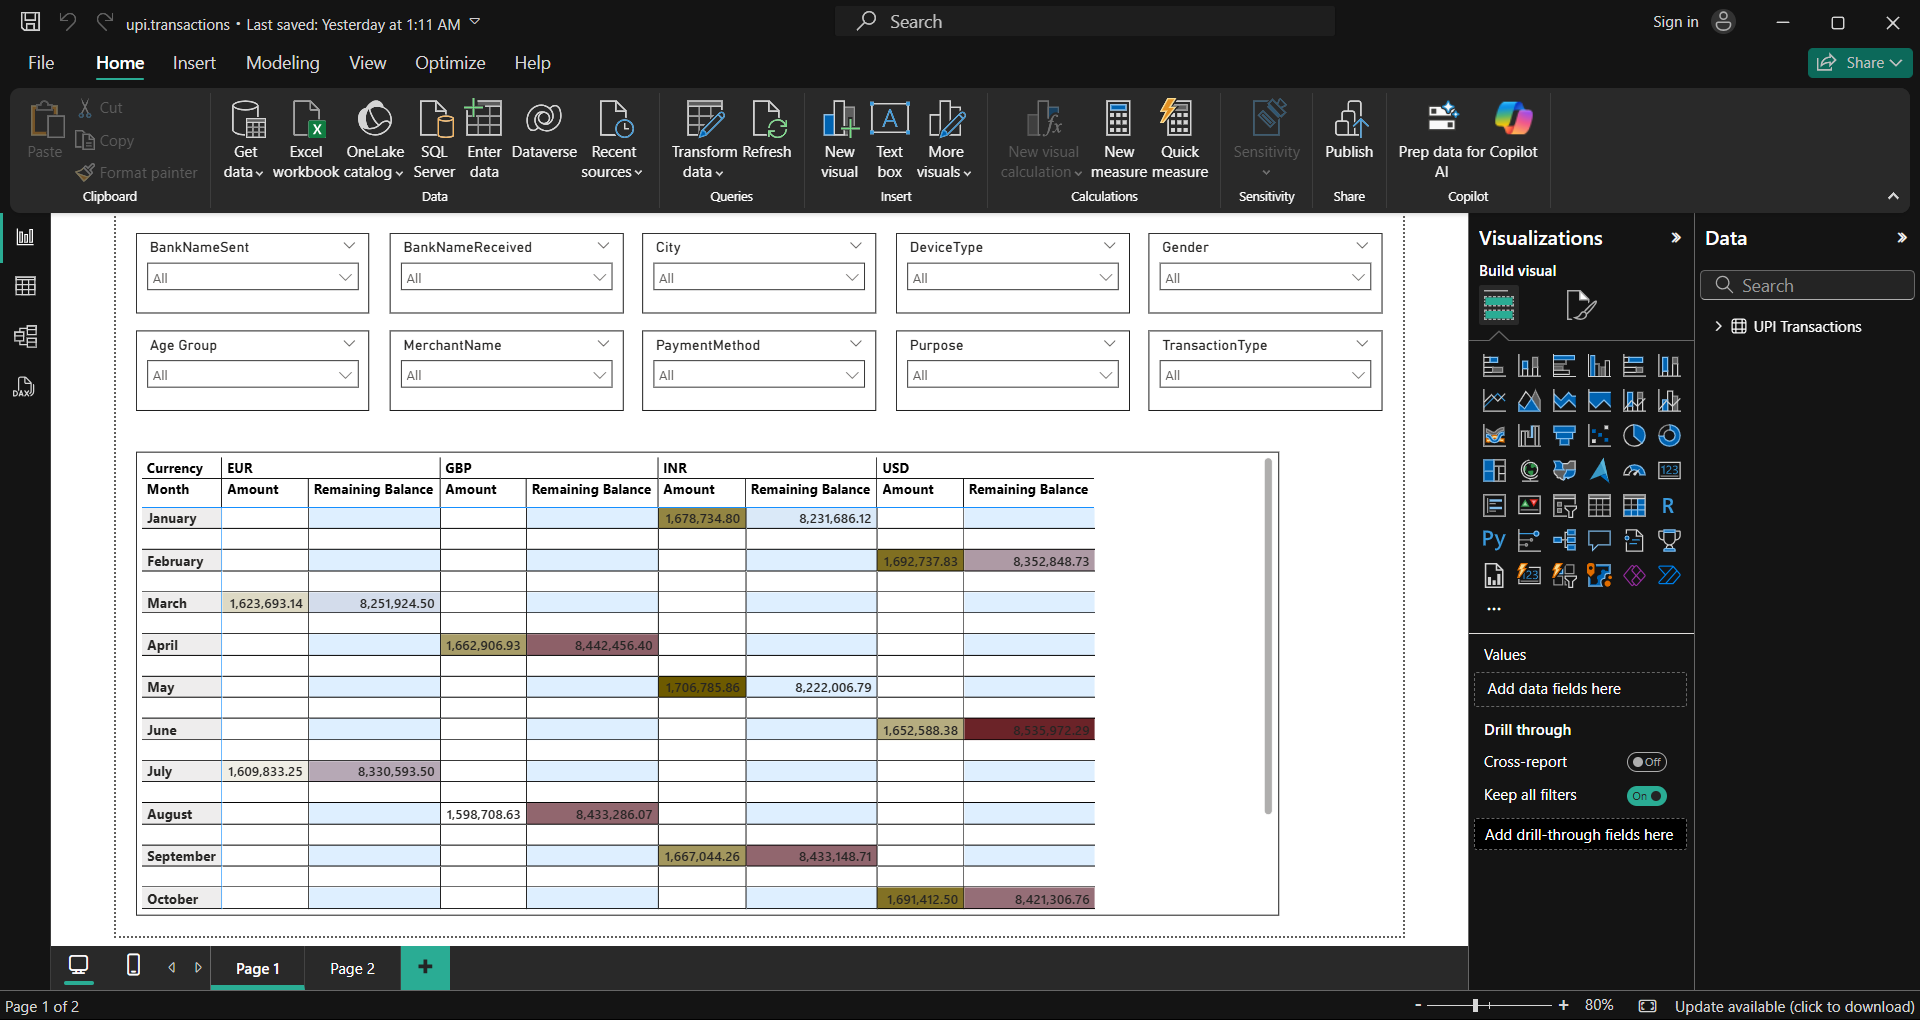

This screenshot's page, from the dashboard's own definition file:
{"tool":"powerbi","page":{"name":"Page 1","canvas":[1280,720],"ordinal":0},"visuals":[{"type":"slicer","fields":{"Values":["Sheet1 (2).BankNameSent"]},"box":[20,20,232,80],"z":0},{"type":"slicer","fields":{"Values":["Sheet1 (2).BankNameReceived"]},"box":[272,20,232.5,80],"z":1000},{"type":"slicer","fields":{"Values":["Sheet1 (2).City"]},"box":[524,20,232.5,80],"z":2000},{"type":"slicer","fields":{"Values":["Sheet1 (2).DeviceType"]},"box":[776.2,20,232.5,80],"z":3000},{"type":"slicer","fields":{"Values":["Sheet1 (2).Gender"]},"box":[1028,20,232.5,80],"z":4000},{"type":"slicer","fields":{"Values":["Sheet1 (2).Age Group"]},"box":[20,117,232,80],"z":5000},{"type":"slicer","fields":{"Values":["Sheet1 (2).MerchantName"]},"box":[272,117,232.5,80],"z":6000},{"type":"slicer","fields":{"Values":["Sheet1 (2).PaymentMethod"]},"box":[524,117,232.5,80],"z":7000},{"type":"slicer","fields":{"Values":["Sheet1 (2).Purpose"]},"box":[776.2,117,232.5,80],"z":8000},{"type":"slicer","fields":{"Values":["Sheet1 (2).TransactionType"]},"box":[1028,117,232.5,80],"z":9000},{"type":"pivotTable","fields":{"Values":["Sum(UPI Transactions.Amount)","Sum(UPI Transactions.RemainingBalance)"],"Rows":["UPI Transactions.TransactionDate.Variation.Date Hierarchy.Month"],"Columns":["UPI Transactions.Currency","UPI Transactions.City"]},"box":[20,237.5,1137.5,461.2],"z":10000}]}

Visuals, with their boxes on the page's 1280x720 design canvas (x1, y1, x2, y2). These are canvas units, not pixel positions in the 1920x1020 screenshot, which may show the page scaled, cropped or inside an application window:
slicer - Sheet1 (2).BankNameSent: select_region(20, 20, 252, 100)
slicer - Sheet1 (2).BankNameReceived: select_region(272, 20, 504, 100)
slicer - Sheet1 (2).City: select_region(524, 20, 756, 100)
slicer - Sheet1 (2).DeviceType: select_region(776, 20, 1009, 100)
slicer - Sheet1 (2).Gender: select_region(1028, 20, 1260, 100)
slicer - Sheet1 (2).Age Group: select_region(20, 117, 252, 197)
slicer - Sheet1 (2).MerchantName: select_region(272, 117, 504, 197)
slicer - Sheet1 (2).PaymentMethod: select_region(524, 117, 756, 197)
slicer - Sheet1 (2).Purpose: select_region(776, 117, 1009, 197)
slicer - Sheet1 (2).TransactionType: select_region(1028, 117, 1260, 197)
pivotTable - Sum(UPI Transactions.Amount) x Sum(UPI Transactions.RemainingBalance): select_region(20, 238, 1158, 699)
